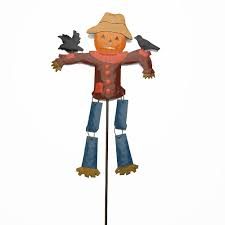person-like: (50, 10, 160, 179)
